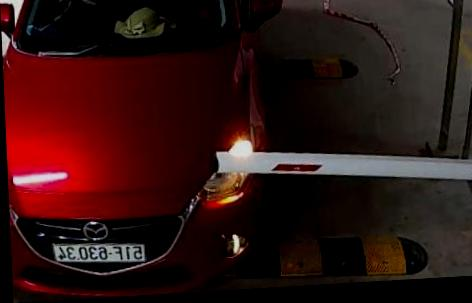License_Plate: (45, 237, 149, 270)
